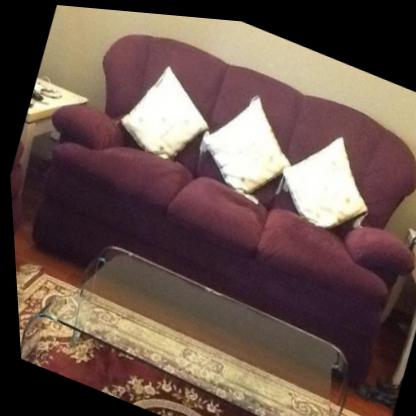Sofa: (4, 0, 416, 389)
Table: (10, 215, 387, 416)
